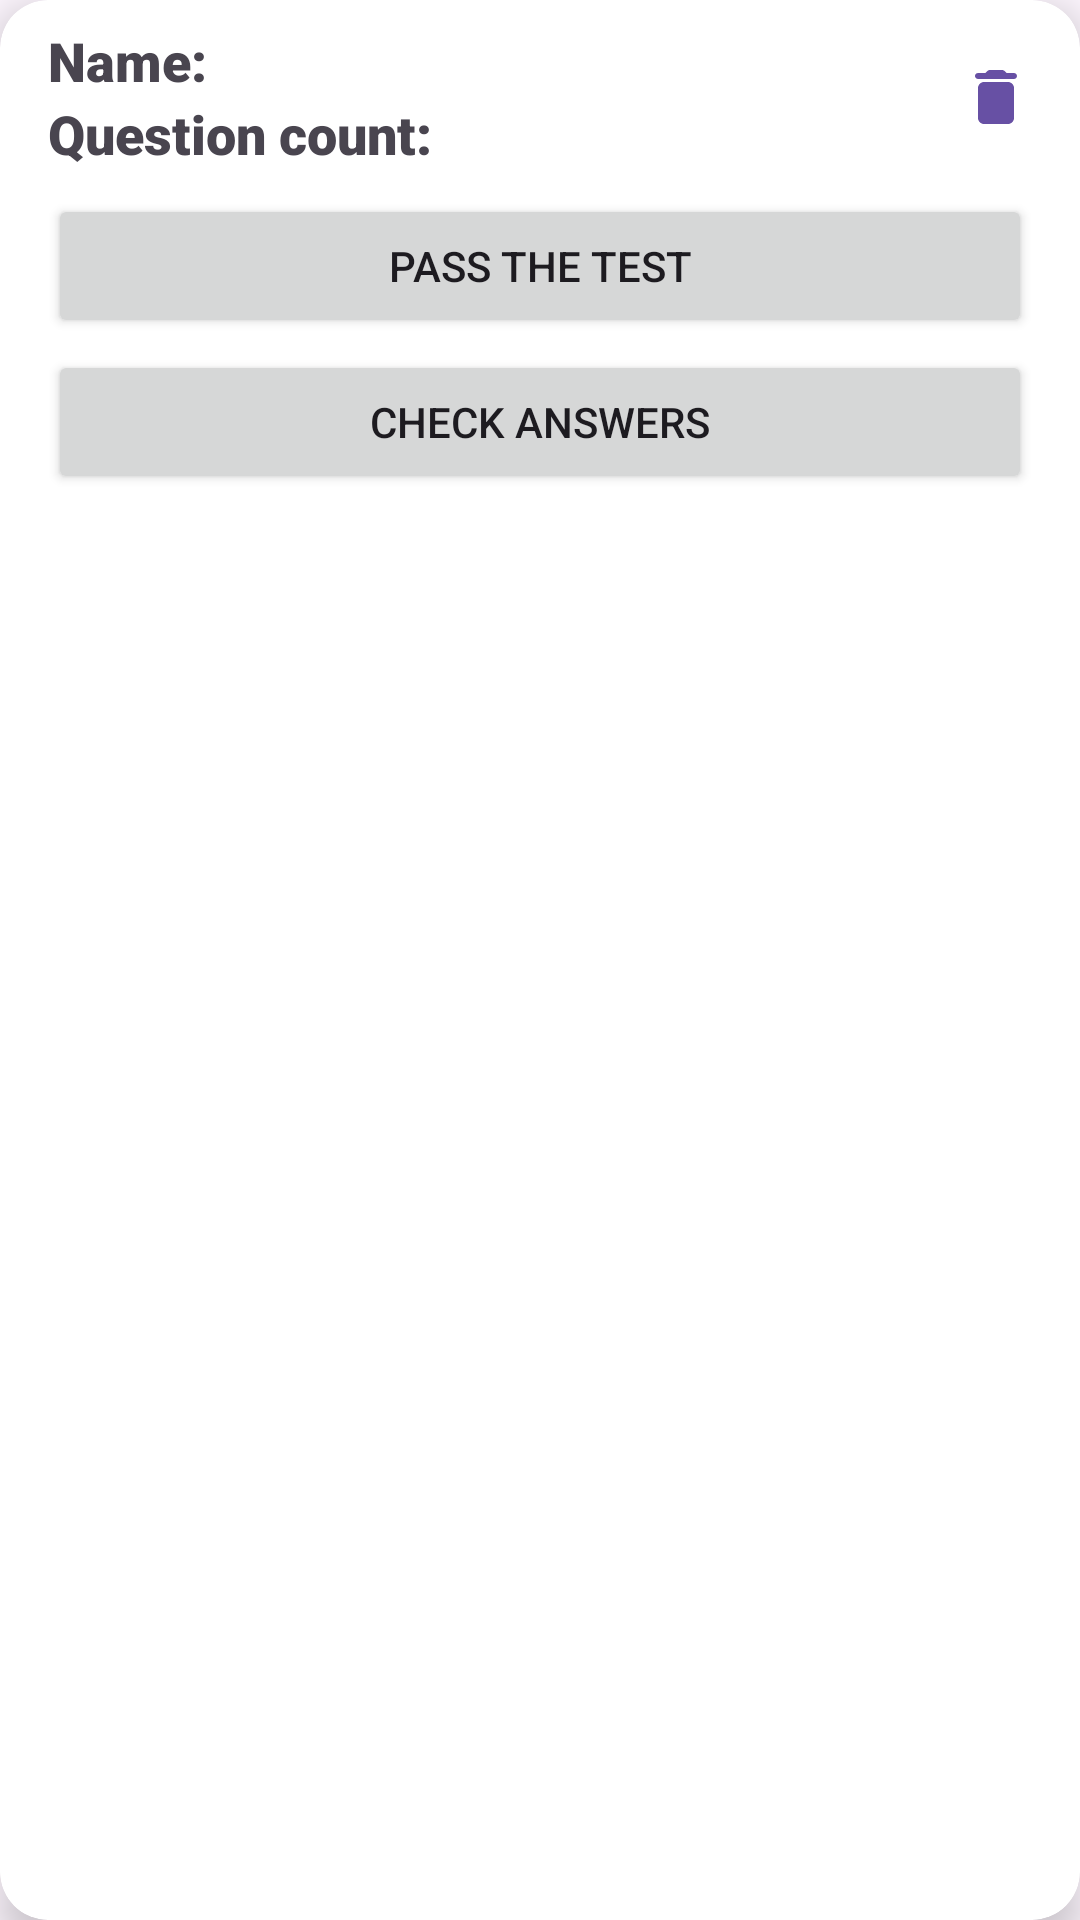

Locate icon controls on the screen. Image size 1080x1920, boxes as detection(x1, y1, x2, y2).
Remove: detection(975, 70, 1017, 124)
